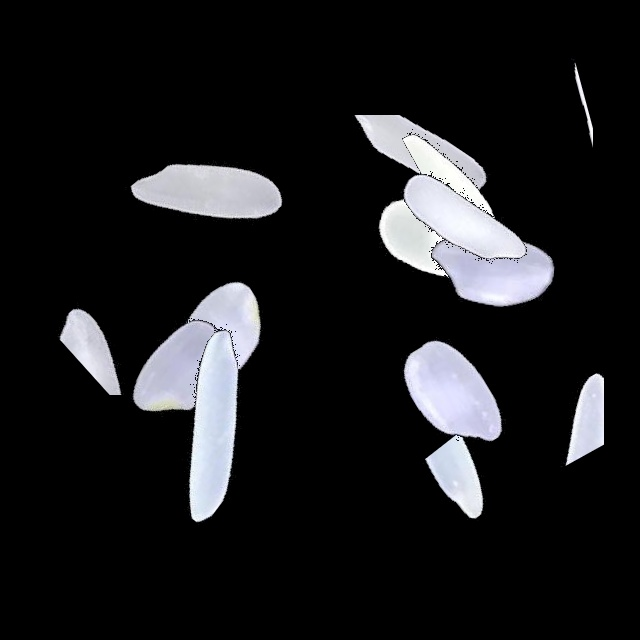Broken: (262, 115, 512, 263), (291, 167, 541, 303), (12, 275, 262, 395), (356, 109, 606, 222), (483, 14, 593, 264), (494, 287, 604, 537), (353, 431, 603, 531), (159, 325, 236, 575)
Full: (91, 210, 341, 460), (83, 68, 333, 318), (59, 244, 309, 494), (366, 144, 616, 394), (88, 301, 338, 551), (325, 270, 575, 520), (337, 93, 587, 343)
